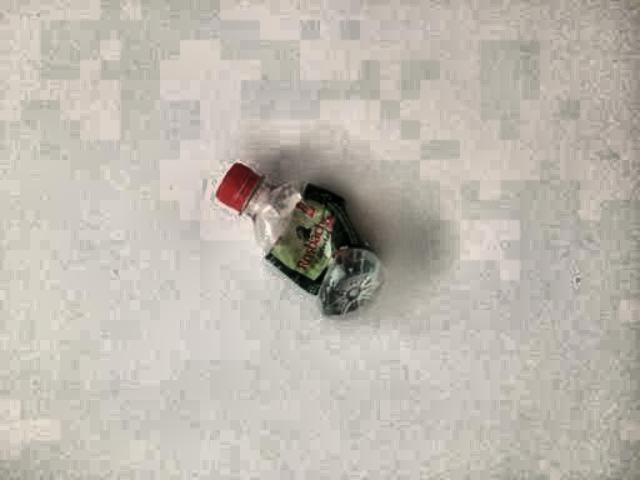Bottles: (198, 141, 401, 335)
